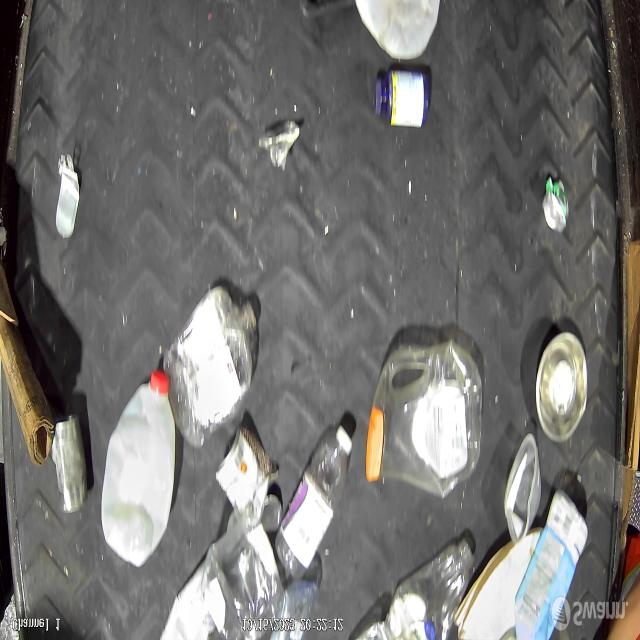can: (215, 424, 279, 530), (52, 413, 89, 514), (542, 177, 570, 233)
milk_jug: (101, 370, 177, 568)
non_white_jug: (366, 337, 484, 500), (514, 488, 588, 640)
plastic_bottle: (275, 426, 353, 579)
